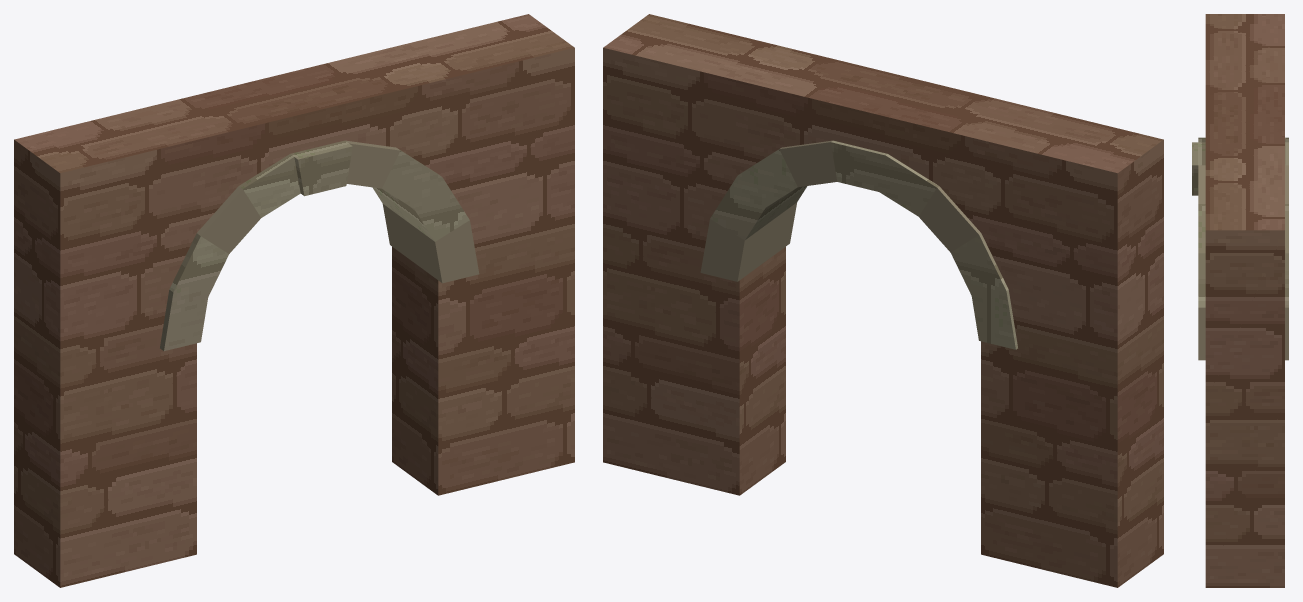
The model's file is culvert_headwall.glb.
The picture shows the model from 3 angles, left to right: view 1: azimuth 30°, elevation 25°; view 2: azimuth 150°, elevation 25°; view 3: azimuth 270°, elevation 25°; orthographic projection. The views are drawn at different scales.
Visible parts, largest first — view 1: Culvert headwall; view 2: Culvert headwall; view 3: Culvert headwall.
Part boxes in pixels (x1,y1,x2,y2): Culvert headwall: [14, 14, 574, 587]; Culvert headwall: [603, 14, 1163, 587]; Culvert headwall: [1192, 14, 1288, 587].
Size of the model in its own units: 2 by 1.54 by 0.378.
Materials: 3 (2 with a texture image).
